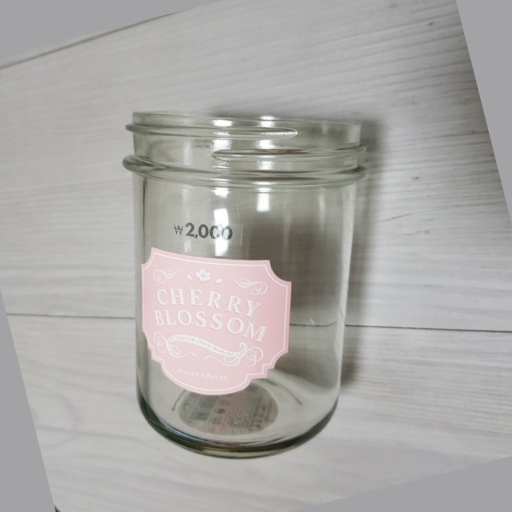Glass_5: (125, 100, 371, 462)
